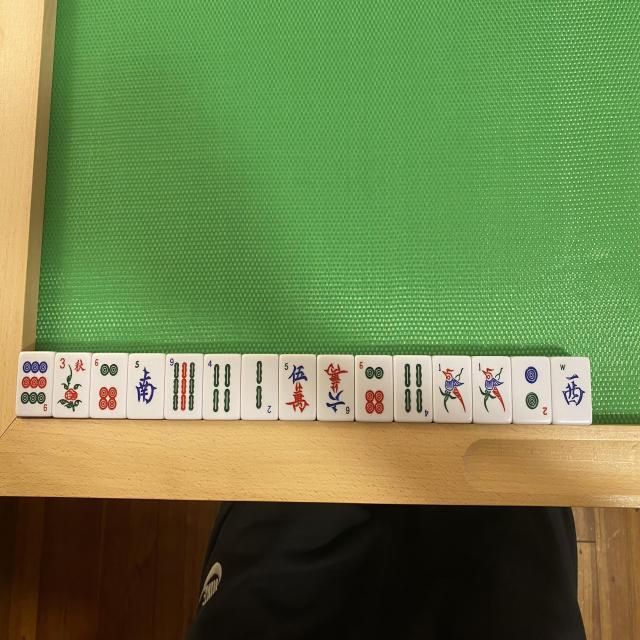bs4: (58, 356, 90, 419)
hws: (130, 357, 164, 418)
hww: (554, 358, 592, 424)
sb1: (434, 359, 472, 421), (474, 360, 511, 422)
sb2: (244, 354, 279, 418)
sb4: (205, 355, 240, 418), (397, 356, 432, 418)
sb9: (169, 354, 204, 416)
sc5: (280, 355, 315, 417)
sc6: (322, 356, 356, 418)
sd2: (514, 359, 550, 422)
sd6: (356, 356, 392, 418), (94, 356, 128, 418)
sd9: (17, 352, 51, 415)
